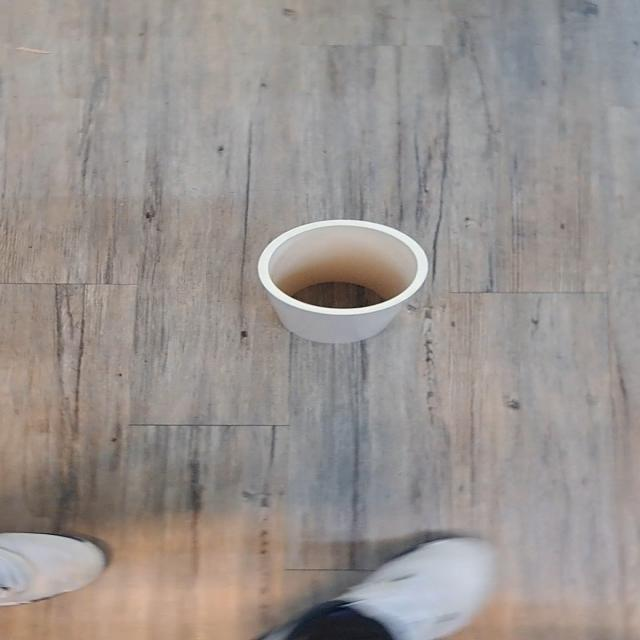CORAL: (240, 194, 444, 365)
